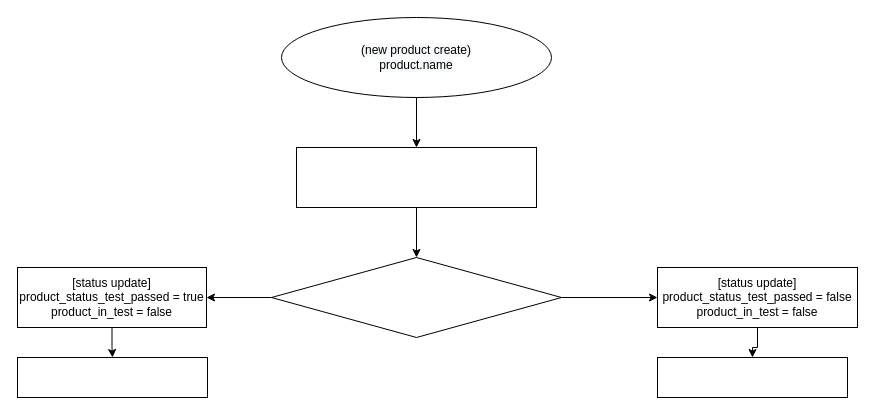
The diagram is 875 pixels wide and 415 high, and some of its shapes have lost their labels. Here are the shapes that lost their labels. From the top down, the centre of each, then its label:
At [416,177]: "[update serial number - service tag] product _atribute_serial_num_tag".
At [416,297]: "[status update] product_in_test = true".
